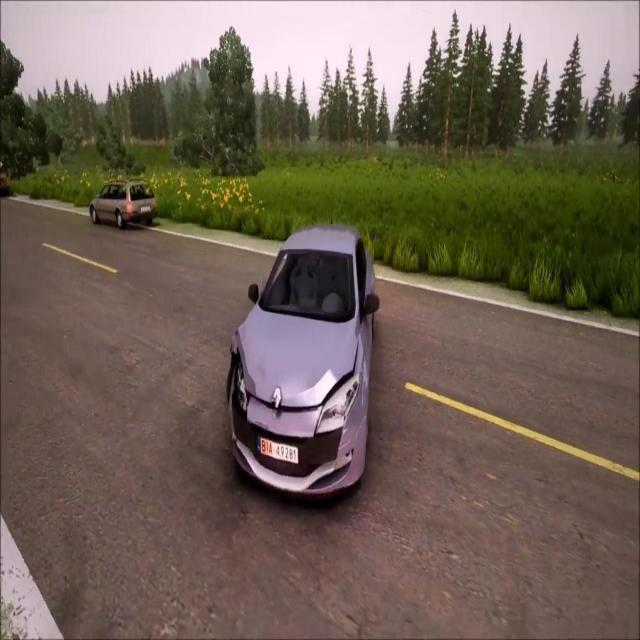accident: (222, 216, 382, 510)
